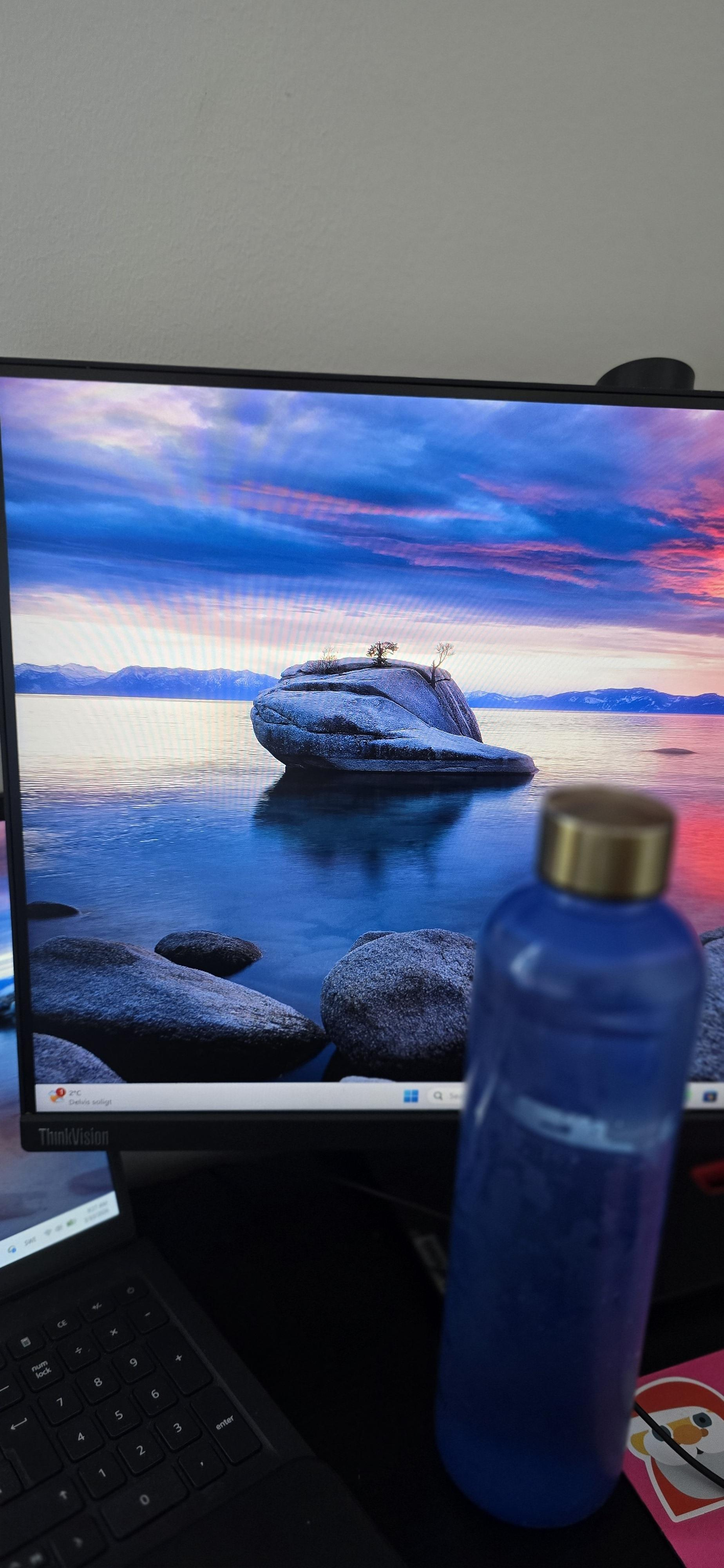bottle: (436, 757, 715, 1480)
